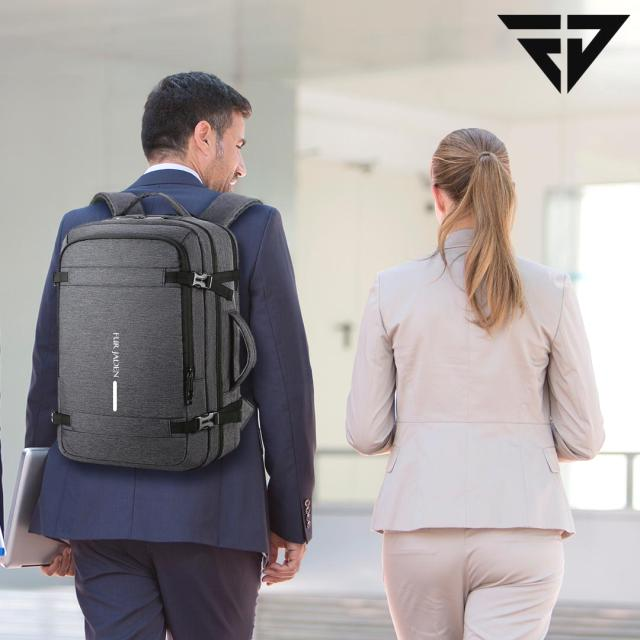backpack: (54, 191, 266, 473)
